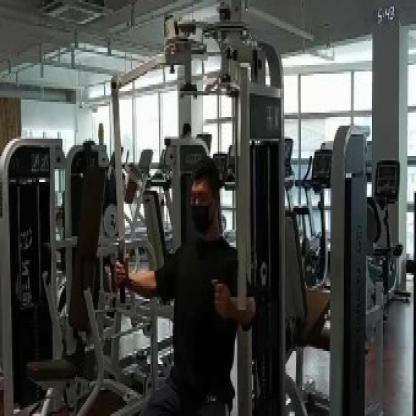chest fly machine: (105, 0, 297, 416)
